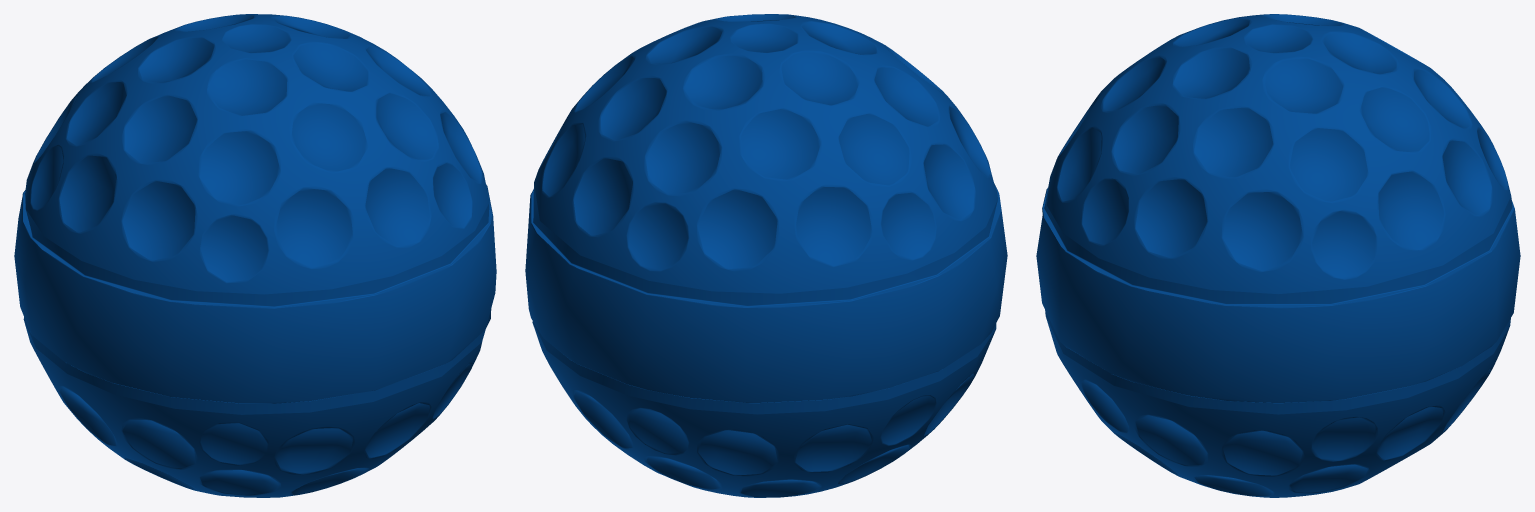
File: BallBlue.obj
3 renders of one model, left to right at view 1: azimuth 30°, elevation 25°; view 2: azimuth 150°, elevation 25°; view 3: azimuth 270°, elevation 25°, orthographic.
Parts seen in each view (by area): view 1: Solid1; view 2: Solid1; view 3: Solid1.
Boxes of the visible parts, <box> form: Solid1: <box>14,14,496,497</box>; Solid1: <box>525,14,1007,497</box>; Solid1: <box>1036,14,1520,497</box>.
Size of the model in its own units: 156 by 158 by 160.
